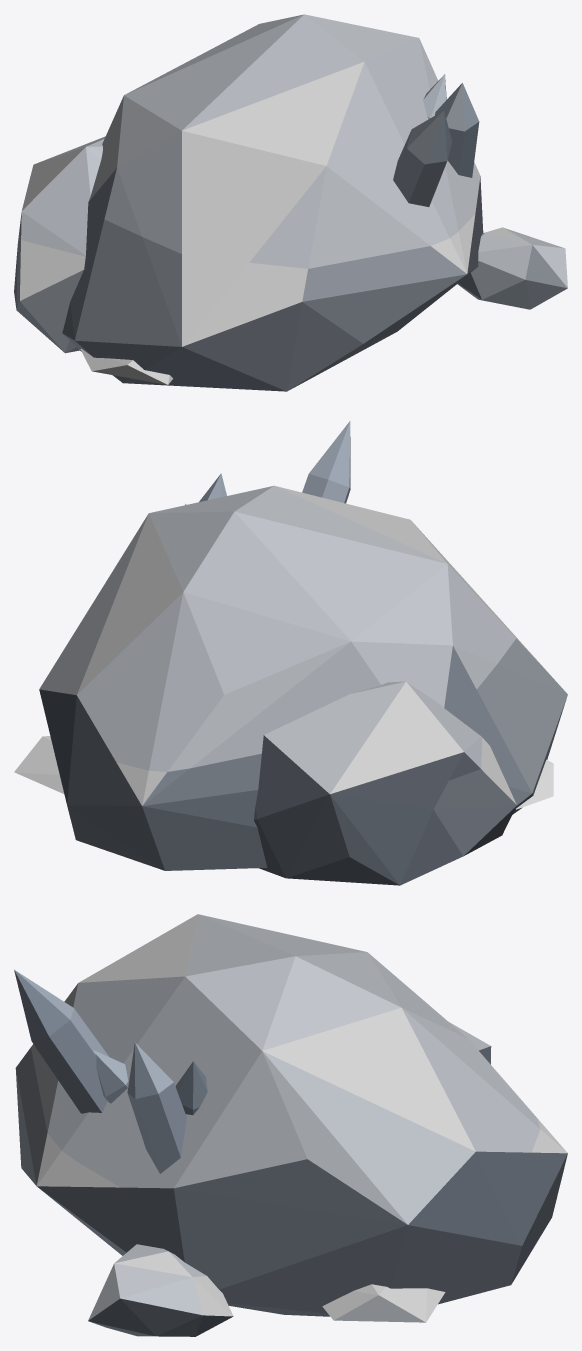
Rendered from rock_arctic_0.glb.
3 renders of one model, top to bottom at view 1: azimuth 30°, elevation 25°; view 2: azimuth 150°, elevation 25°; view 3: azimuth 270°, elevation 25°, orthographic. The views are drawn at different scales.
Visible parts, largest first — view 1: Body; view 2: Body; view 3: Body.
Part boxes in pixels (x1,y1,x2,y2): Body: [14, 14, 567, 391]; Body: [14, 421, 567, 885]; Body: [14, 914, 567, 1336].
Bounding box in the file's own units: 3.65 × 2.02 × 3.41.
